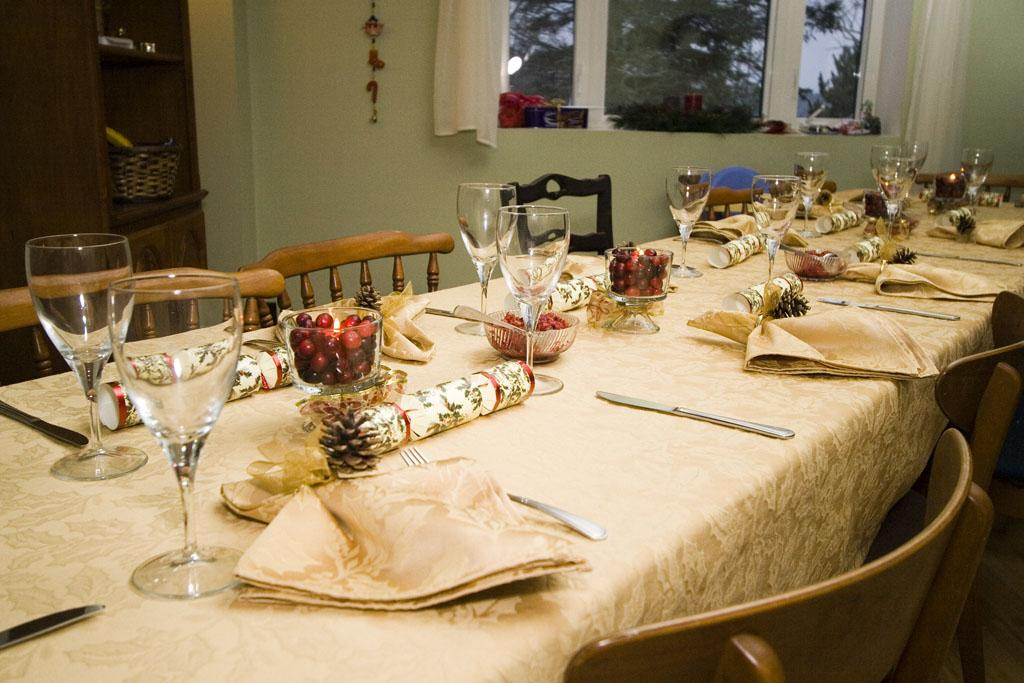table: (2, 185, 1023, 681)
